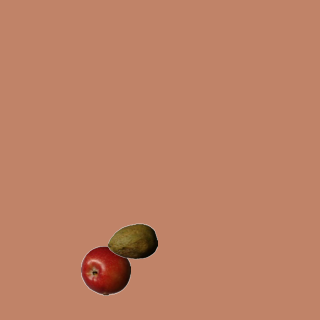Apple Braeburn: (80, 245, 130, 295)
Papaya: (107, 216, 157, 266)
